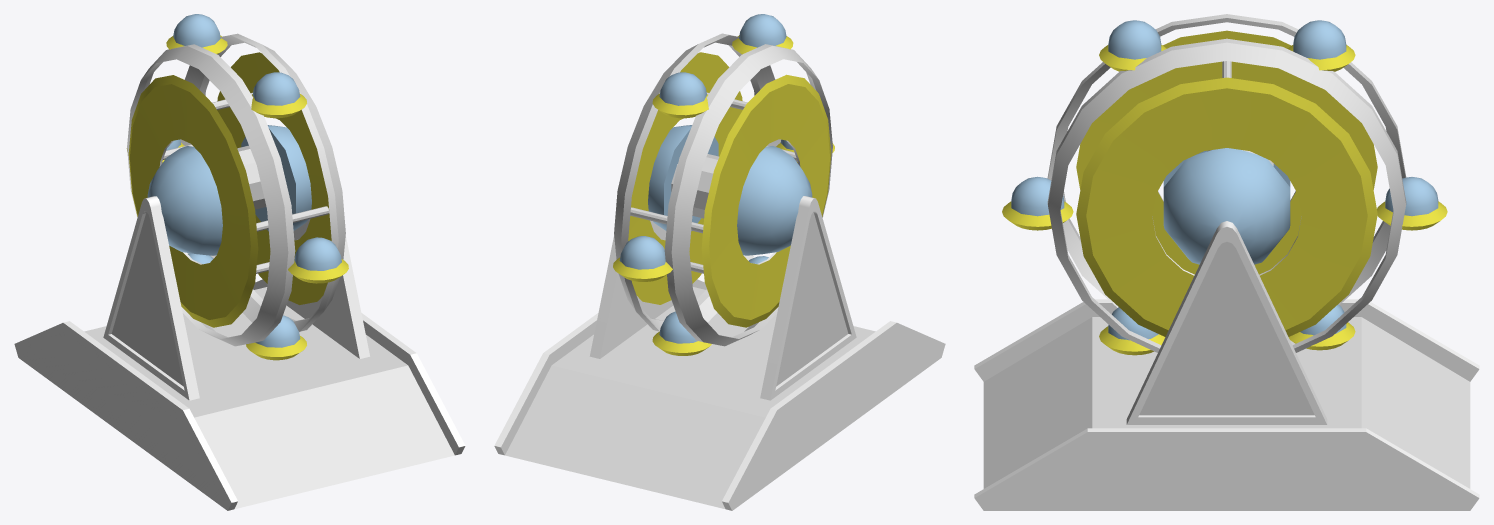
The model's file is FerrisWheel.fbx.
The picture shows the model from 3 angles, left to right: view 1: azimuth 30°, elevation 25°; view 2: azimuth 150°, elevation 25°; view 3: azimuth 270°, elevation 25°; orthographic projection. The views are drawn at different scales.
Visible parts, largest first — view 1: FerrisWheel; view 2: FerrisWheel; view 3: FerrisWheel.
Part boxes in pixels (<box>): FerrisWheel: <box>14,14,465,510</box>; FerrisWheel: <box>494,14,945,510</box>; FerrisWheel: <box>974,14,1479,510</box>.
Bounding box in the file's own units: 538 × 795 × 866.
